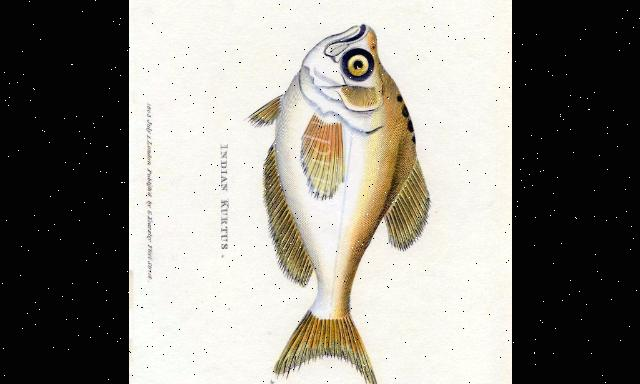Mulut: (322, 15, 378, 55)
Sirip Anal: (256, 146, 320, 288)
Sirip Dada: (294, 116, 348, 198)
Sirip Ekor: (267, 308, 384, 384)
Sirip Perut: (244, 93, 288, 131)
Sirip Punggung: (374, 162, 442, 250)
